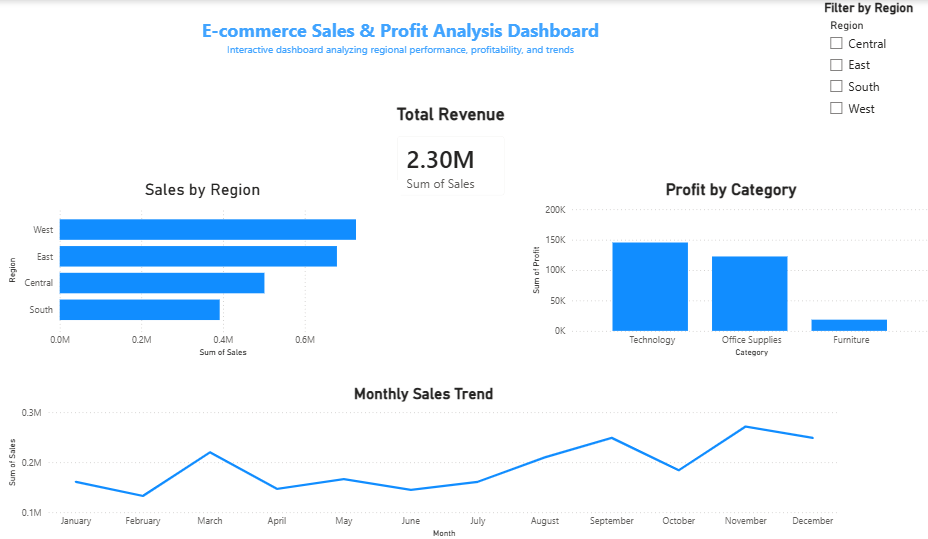

The dashboard page shown, as its layout file describes it:
{"tool":"powerbi","page":{"name":"Sales Performance Dashboard","canvas":[1280,720],"ordinal":4},"visuals":[{"type":"cardVisual","title":"Total Revenue","fields":{"Data":["Sum(Sample - Superstore.Sales)"]},"box":[513.9,137.4,177.3,139.4],"z":0},{"type":"clusteredBarChart","title":"Sales by Region","fields":{"Category":["Sample - Superstore.Region"],"Y":["Sum(Sample - Superstore.Sales)"]},"box":[10,239,525.8,239],"z":1},{"type":"lineChart","title":"Monthly Sales Trend","fields":{"Y":["Sum(Sample - Superstore.Sales)"],"Category":["Sample - Superstore.Order Date.Variation.Date Hierarchy.Month"]},"box":[10,509.9,1113.4,209.1],"z":3},{"type":"slicer","title":"Filter by Region","fields":{"Values":["Sample - Superstore.Region"]},"box":[1093.5,0,151.4,239],"z":4},{"type":"textbox","box":[1123,510,150,209],"z":5},{"type":"textbox","box":[500,277,177,201],"z":6},{"type":"textbox","box":[10,17.9,1051.6,75.7],"z":7},{"type":"clusteredColumnChart","title":"Profit by Category","fields":{"Category":["Sample - Superstore.Category"],"Y":["Sum(Sample - Superstore.Profit)"]},"box":[705.1,239,539.8,239],"z":8}]}

Visuals, with their boxes on the page's 1280x720 design canvas (x1, y1, x2, y2). These are canvas units, not pixel positions in the 928x539 screenshot, which may show the page scaled, cropped or inside an application window:
"Total Revenue" cardVisual: <bbox>514, 137, 691, 277</bbox>
"Sales by Region" clusteredBarChart: <bbox>10, 239, 536, 478</bbox>
"Monthly Sales Trend" lineChart: <bbox>10, 510, 1123, 719</bbox>
"Filter by Region" slicer: <bbox>1094, 0, 1245, 239</bbox>
textbox: <bbox>1123, 510, 1273, 719</bbox>
textbox: <bbox>500, 277, 677, 478</bbox>
textbox: <bbox>10, 18, 1062, 94</bbox>
"Profit by Category" clusteredColumnChart: <bbox>705, 239, 1245, 478</bbox>
